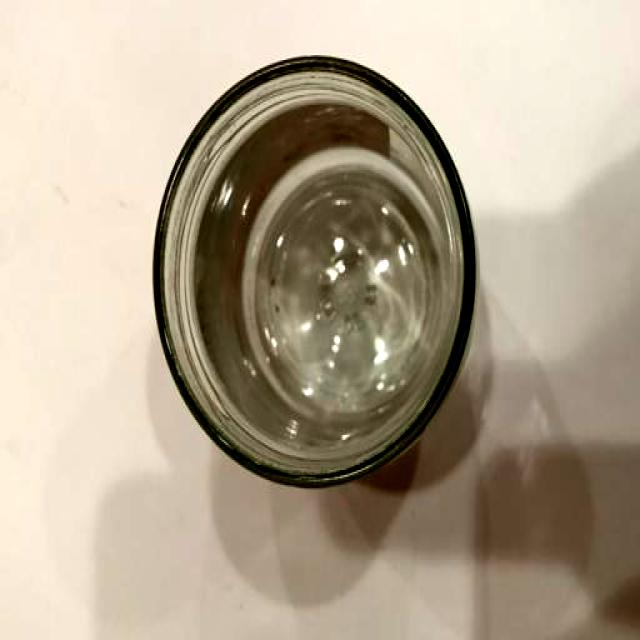Glass: (141, 48, 487, 496)
